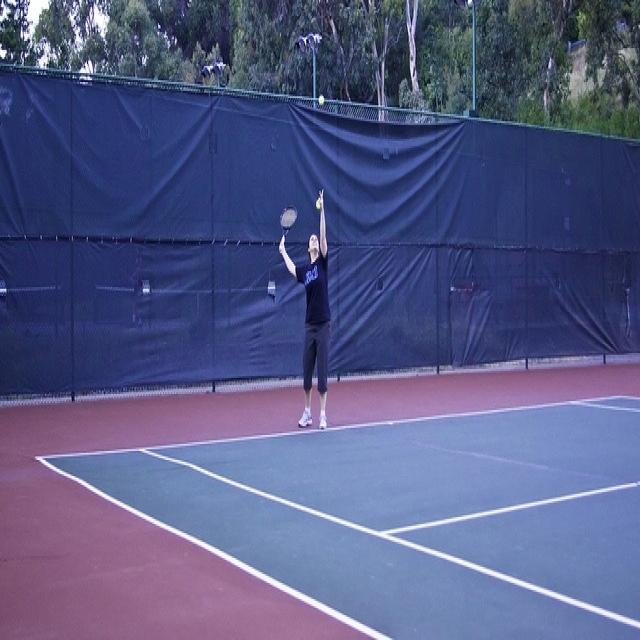ball: (315, 197, 323, 211), (316, 95, 324, 104)
